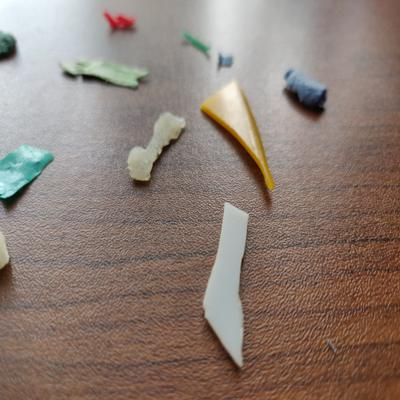plastic: (196, 197, 260, 376), (196, 74, 277, 191), (123, 106, 190, 193), (55, 51, 154, 95), (1, 141, 65, 204), (277, 66, 333, 120)
